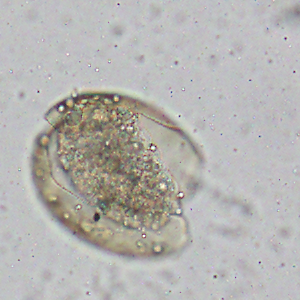Fasciola_hepatica_egg: (31, 88, 205, 258)
